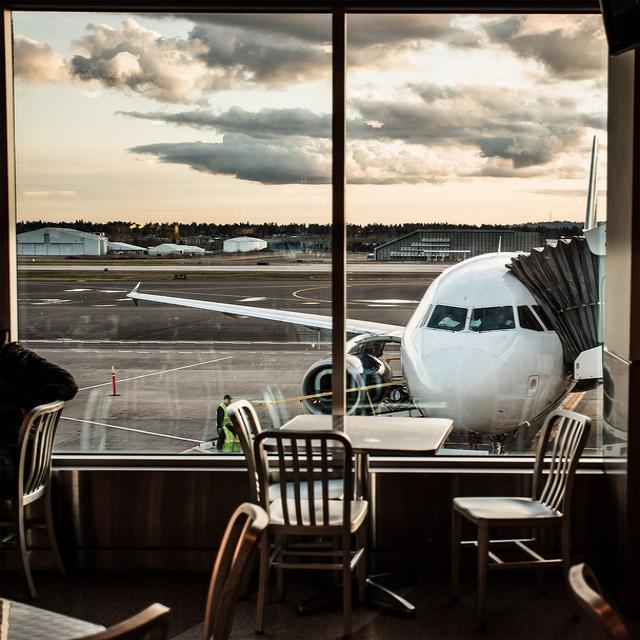chair: (451, 409, 593, 629), (255, 433, 377, 628), (0, 404, 75, 603), (199, 502, 268, 632), (569, 563, 634, 640), (225, 396, 261, 511), (67, 603, 173, 640)
dining table: (262, 414, 456, 500)
